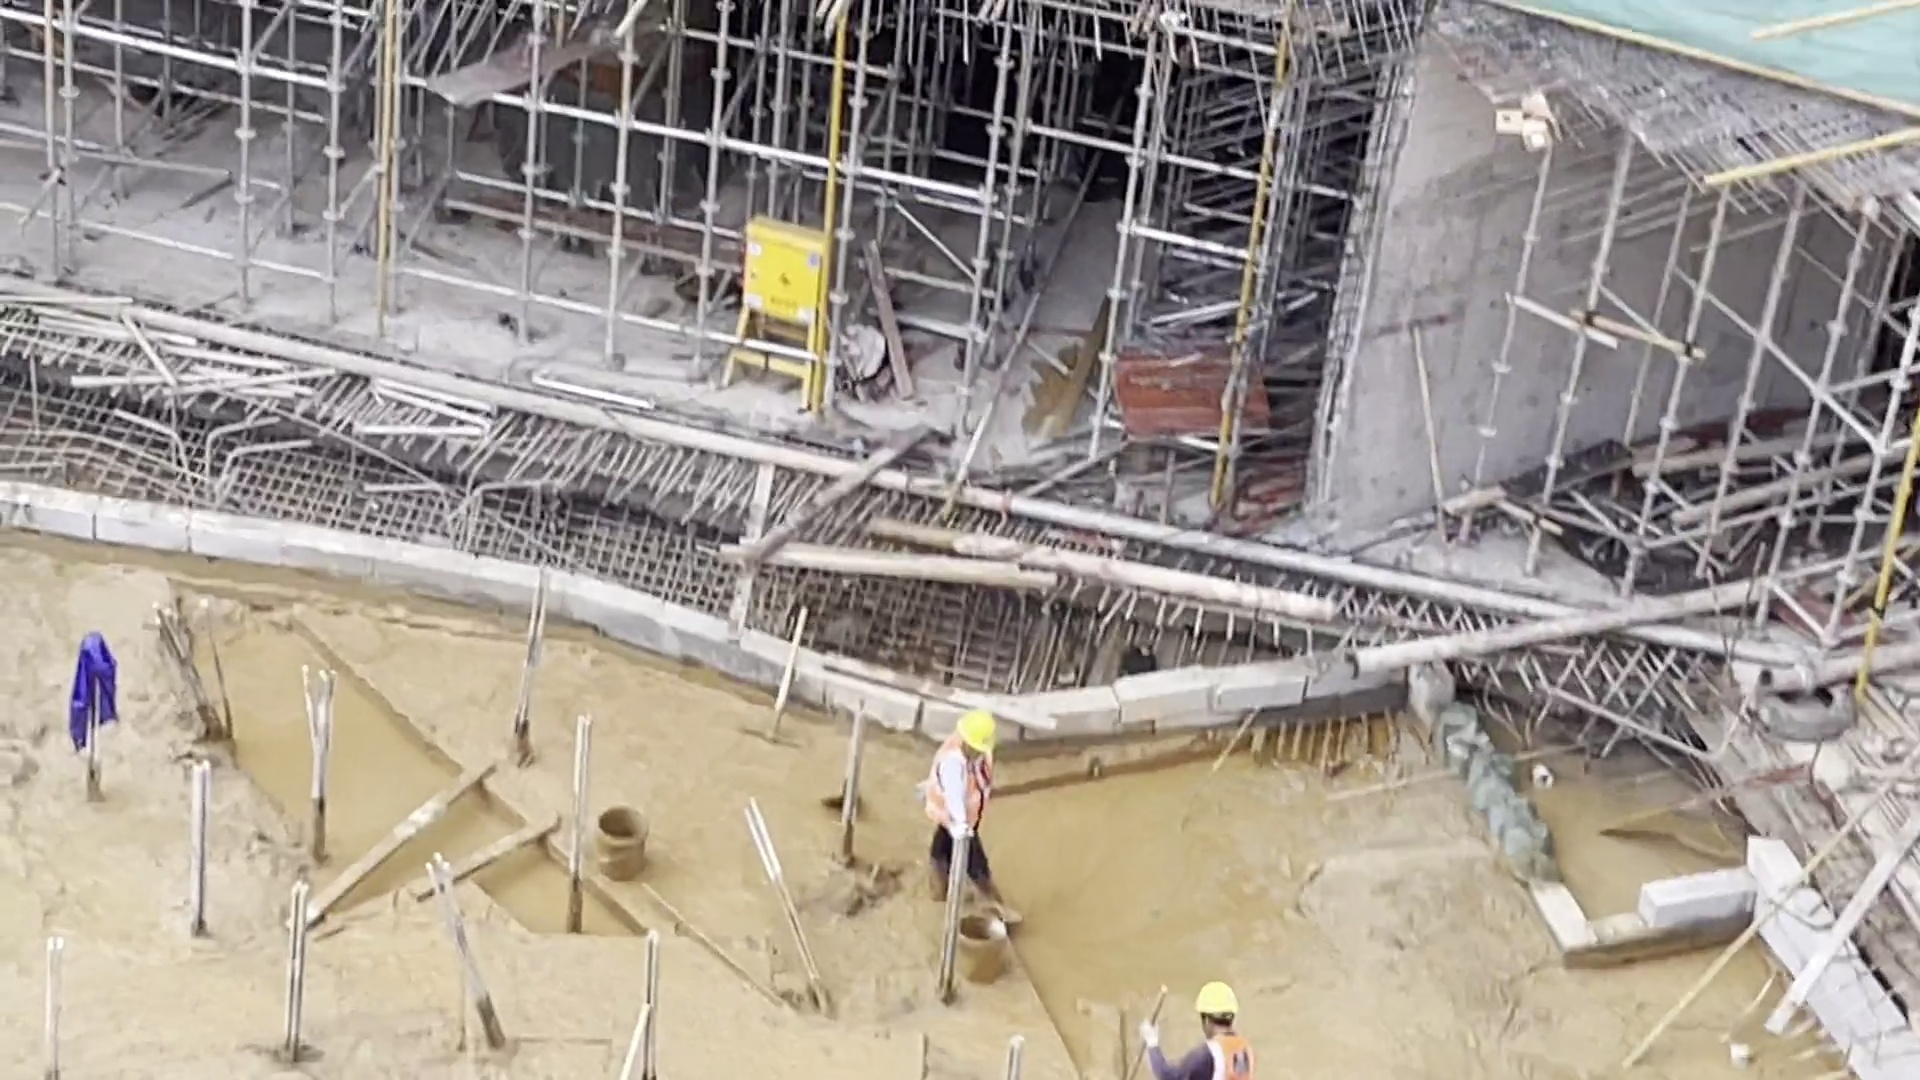ebox: (728, 212, 829, 410)
helmet: (958, 708, 998, 757), (1194, 978, 1242, 1016)
person: (926, 708, 1024, 926), (1133, 977, 1258, 1077)
vest: (924, 735, 994, 834), (1205, 1031, 1252, 1080)
